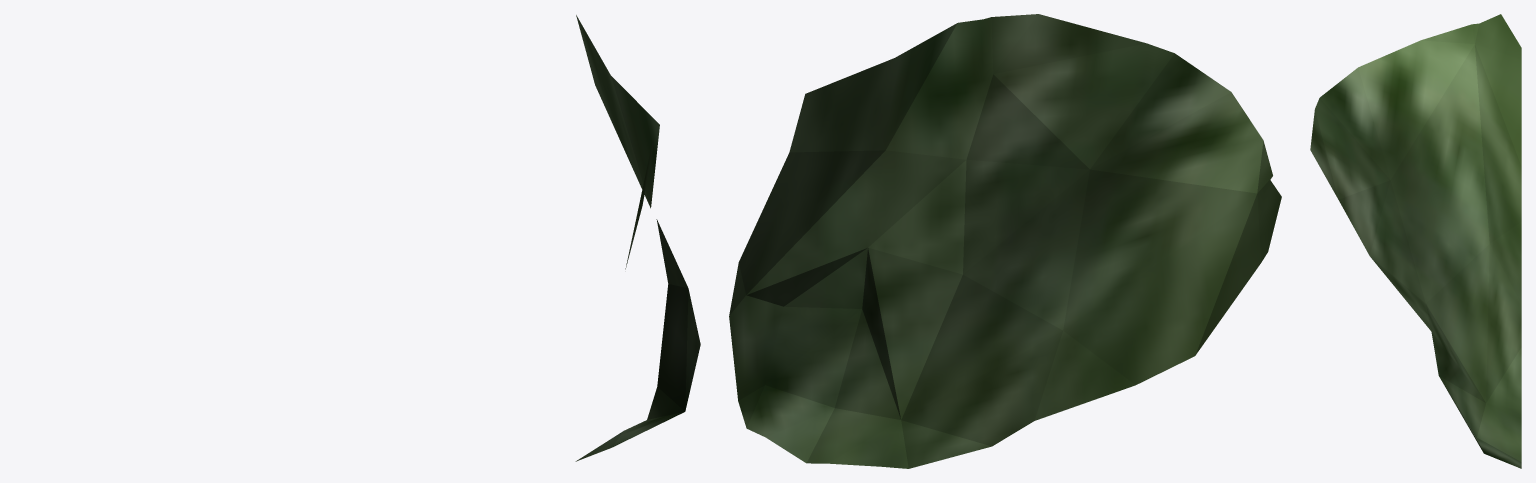
3 renders of one model, left to right at view 1: azimuth 30°, elevation 25°; view 2: azimuth 150°, elevation 25°; view 3: azimuth 270°, elevation 25°, orthographic. The views are drawn at different scales.
Bounding box in the file's own units: 0.7142 × 0.4674 × 0.3217.
1 material, 1 textured.
